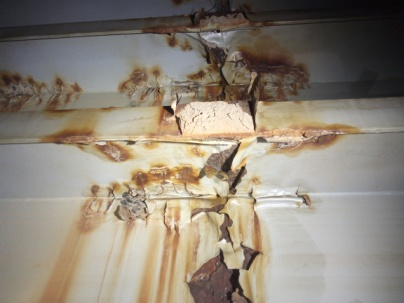corrosion: (184, 36, 311, 102), (51, 191, 97, 297), (133, 206, 180, 303), (182, 251, 264, 301), (174, 195, 247, 240), (191, 145, 252, 189), (259, 130, 364, 155), (173, 1, 256, 26), (0, 71, 40, 111), (40, 70, 85, 105), (128, 162, 196, 185), (140, 20, 193, 49), (237, 198, 265, 246), (32, 126, 99, 146), (111, 193, 151, 225), (115, 68, 163, 93), (88, 141, 132, 163), (147, 102, 177, 127), (126, 90, 167, 103)
